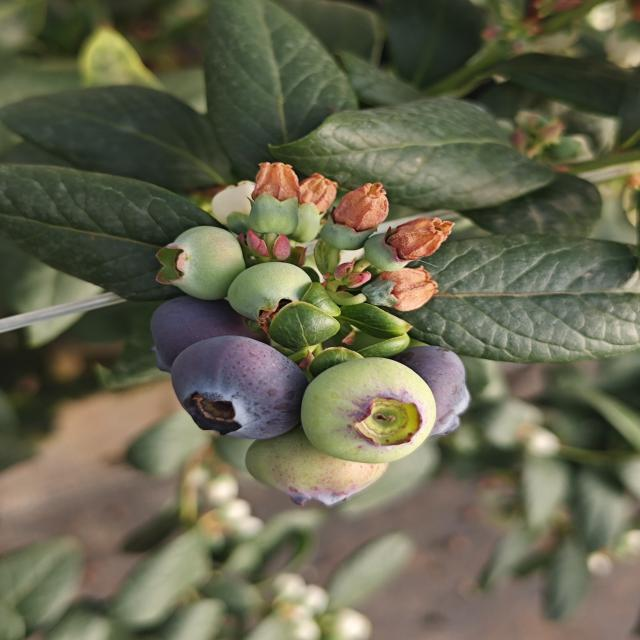ripe: (167, 334, 308, 441), (146, 296, 245, 377), (396, 341, 477, 435)
